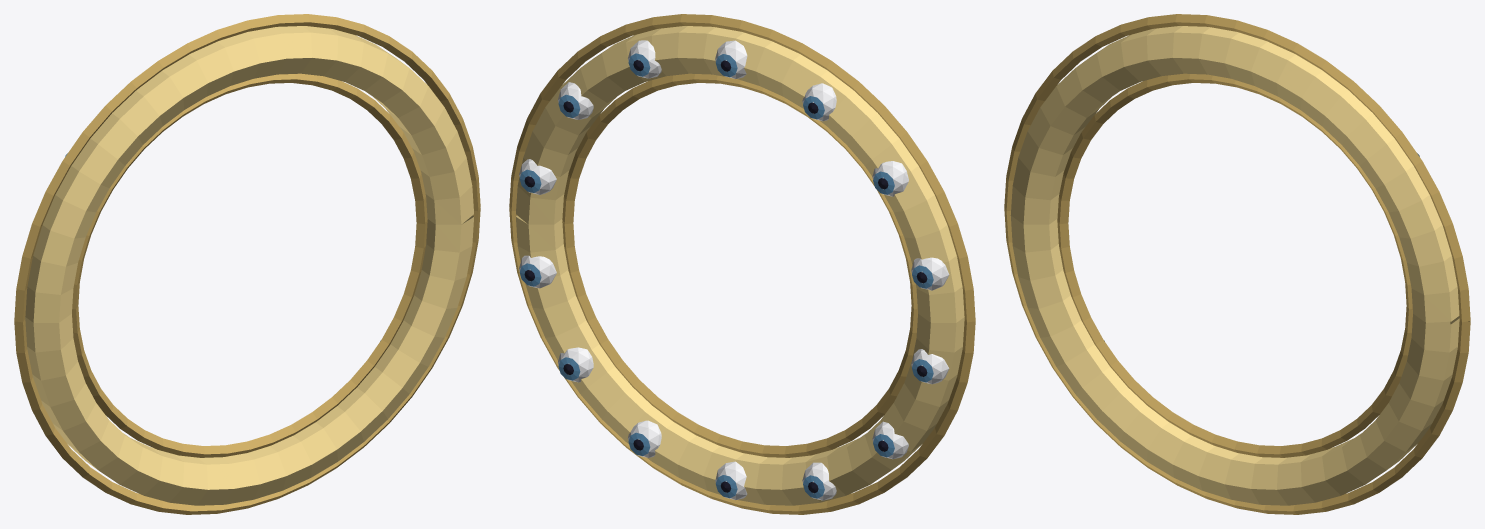
Rendered from AngelRingA.obj.
The picture shows the model from 3 angles, left to right: view 1: azimuth 30°, elevation 25°; view 2: azimuth 150°, elevation 25°; view 3: azimuth 330°, elevation 25°; orthographic projection.
Visible parts, largest first — view 1: AngelRingA; view 2: AngelRingA; view 3: AngelRingA.
Boxes of the visible parts, x1,y1,x2,y2 form: AngelRingA: (14, 14, 480, 514); AngelRingA: (509, 14, 975, 514); AngelRingA: (1004, 14, 1470, 514).
Size of the model in its own units: 2.32 by 2.32 by 0.2611.
Materials: 1 (1 with a texture image).
